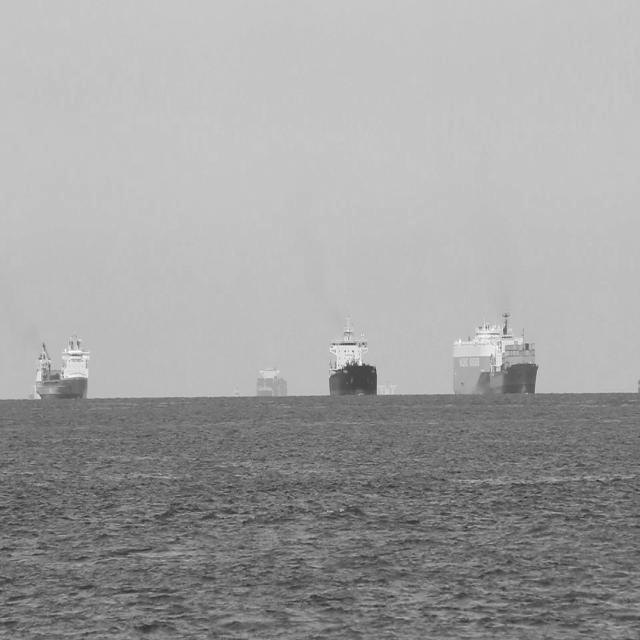ship: (452, 310, 540, 394), (328, 312, 378, 394), (35, 328, 91, 398), (257, 365, 288, 396), (378, 380, 398, 395), (232, 381, 242, 398), (28, 377, 36, 397)
